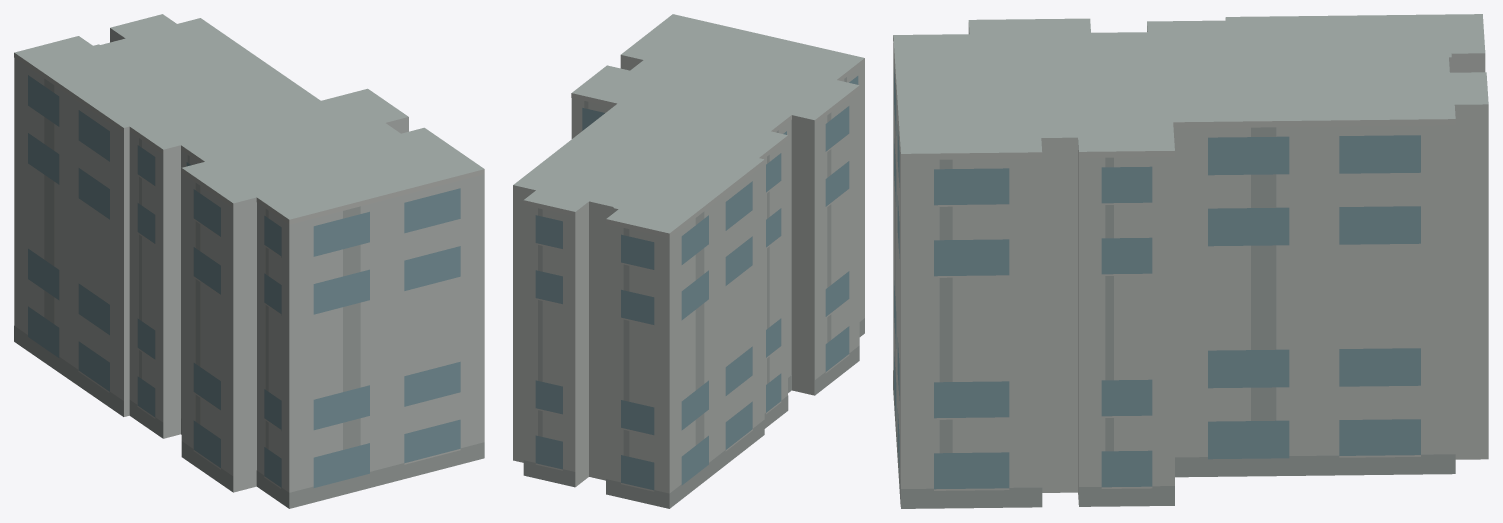
Rendered from survey-upis-32607815.glb.
3 views of the same model, side by side, from view 1: azimuth 30°, elevation 25°; view 2: azimuth 150°, elevation 25°; view 3: azimuth 270°, elevation 25° (orthographic). The views are drawn at different scales.
Visible parts, largest first — view 1: survey-upis-32607815.tmp; view 2: survey-upis-32607815.tmp; view 3: survey-upis-32607815.tmp.
Part boxes in pixels (x1,y1,x2,y2): survey-upis-32607815.tmp: [14, 14, 484, 508]; survey-upis-32607815.tmp: [513, 14, 864, 508]; survey-upis-32607815.tmp: [893, 14, 1488, 508].
Size of the model in its own units: 11.76 by 13.9 by 21.14.
